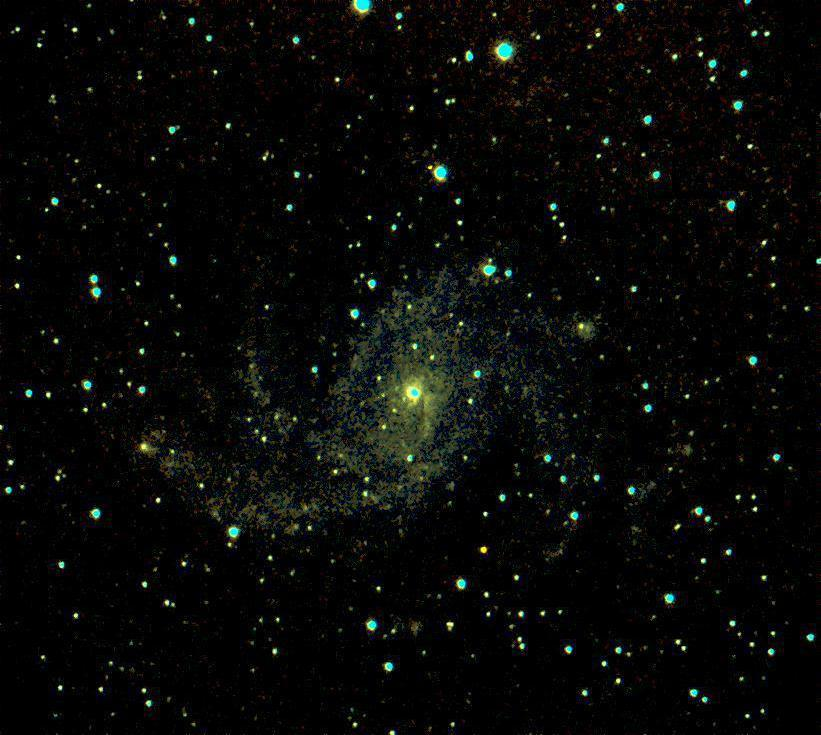star: (470, 528, 500, 558)
